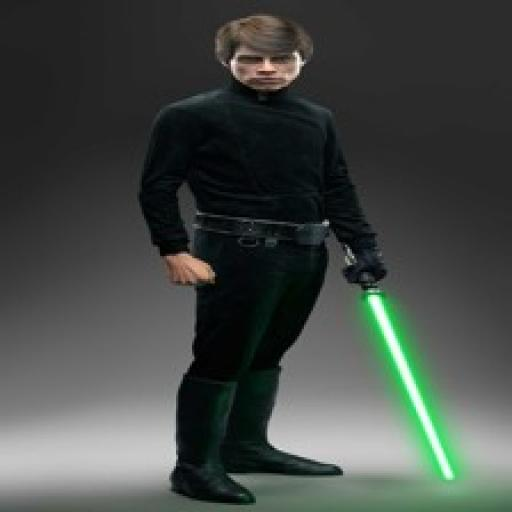human: (140, 13, 394, 509)
lightsaber: (342, 243, 463, 489)
